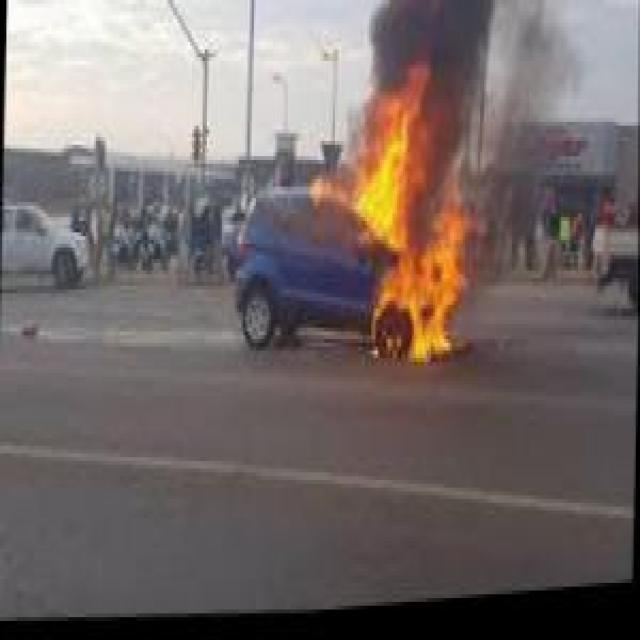Fire: (301, 61, 478, 392)
Smoke: (476, 0, 602, 202), (358, 0, 486, 76)
